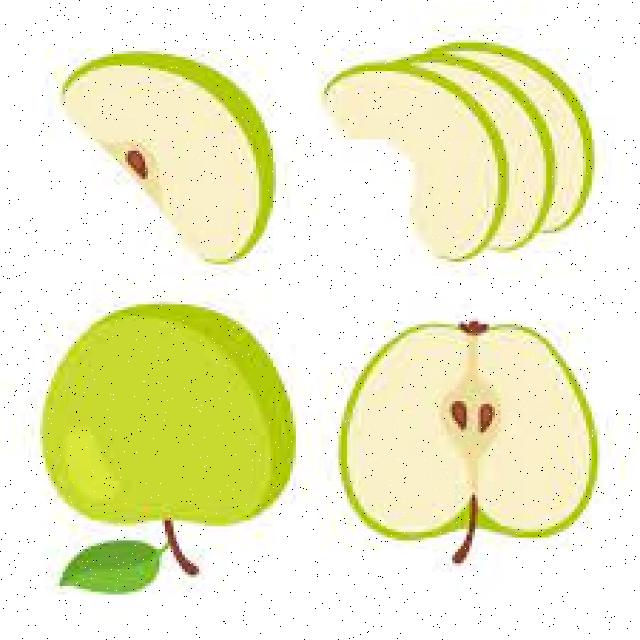Apple: (42, 303, 295, 584), (346, 323, 597, 551), (57, 54, 279, 263), (323, 61, 508, 260)
